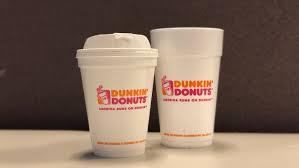Plastic cup: (76, 13, 244, 165)
